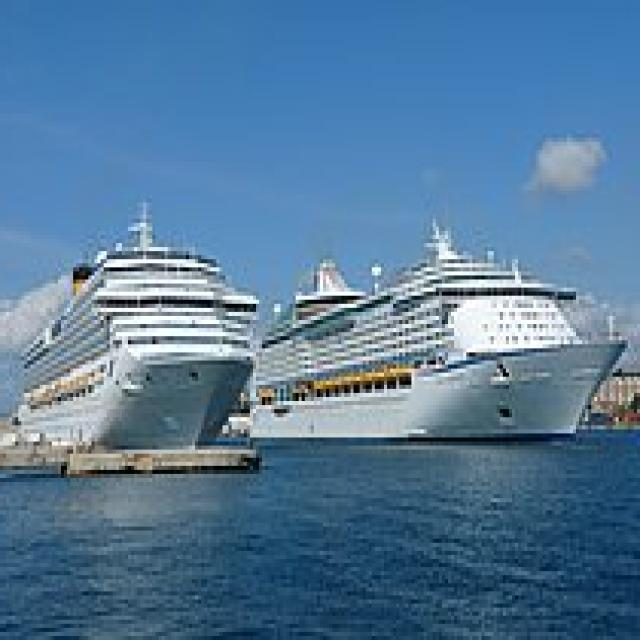Cruise: (247, 207, 634, 438), (18, 190, 265, 450)
